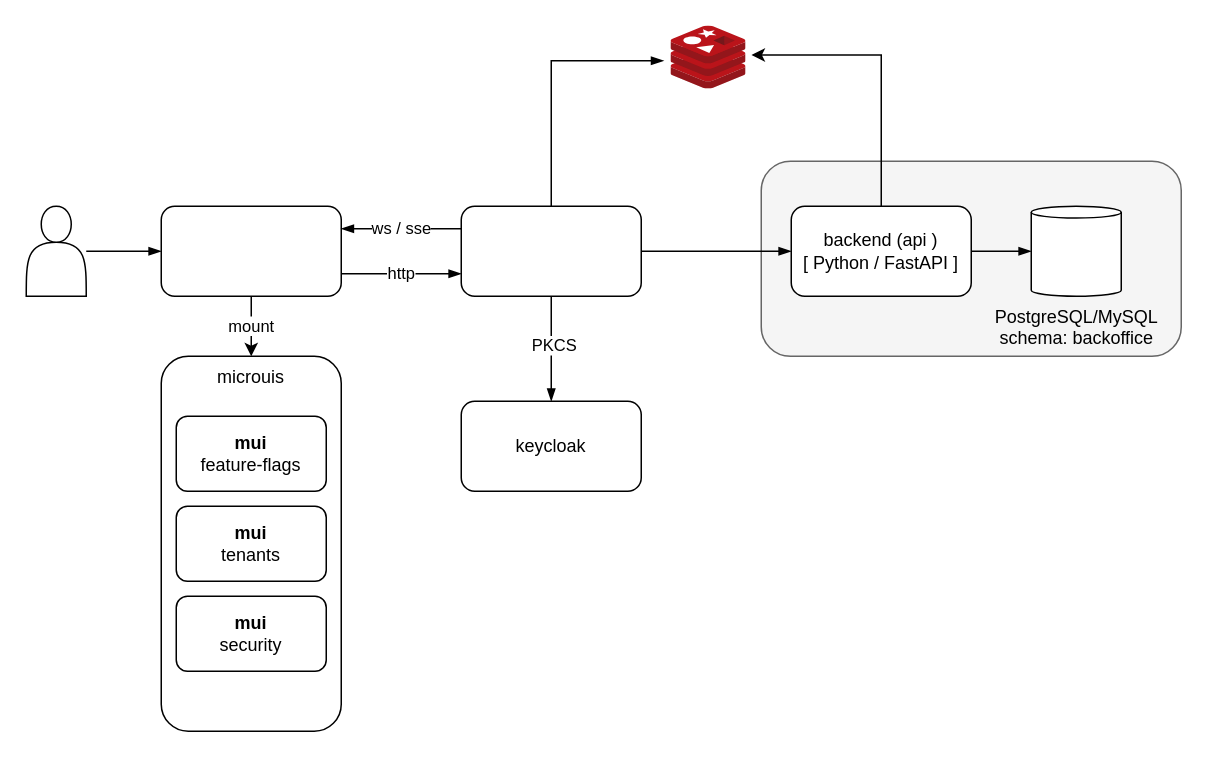
This 1208x758 diagram has some shape labels left out. Each missing label, with the centre of its shape:
"bff [ nodejs ]" belongs at point (550, 250).
"portal (shell) [ vue + pinia ]" belongs at point (250, 250).
"Redis ( Caching )" belongs at point (708, 57).
